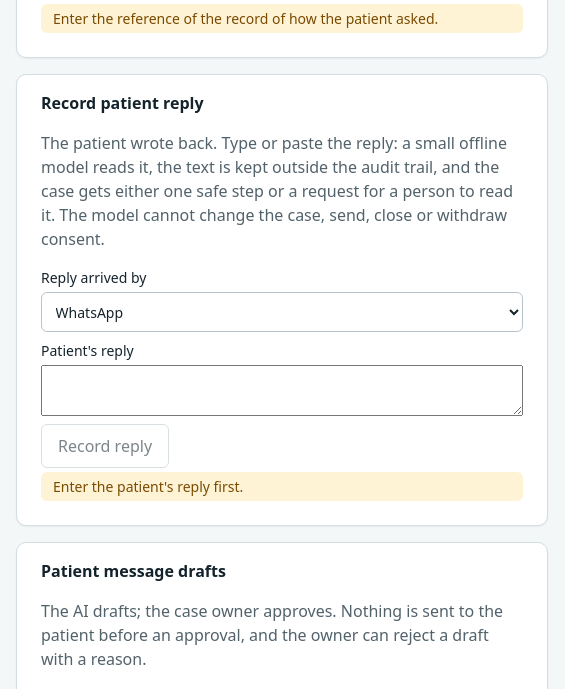
it: Record patient reply › a Gulf-Arabic confirmation is read as confirm but always goes to a person, and the Why panel says the rule
The image size is (565, 689).
(page scrolled)
Type "ان شاء الله بجي يوم الأحد" into the text box with test id "reply-text" at (282, 391), box 41,365 -> 523,416
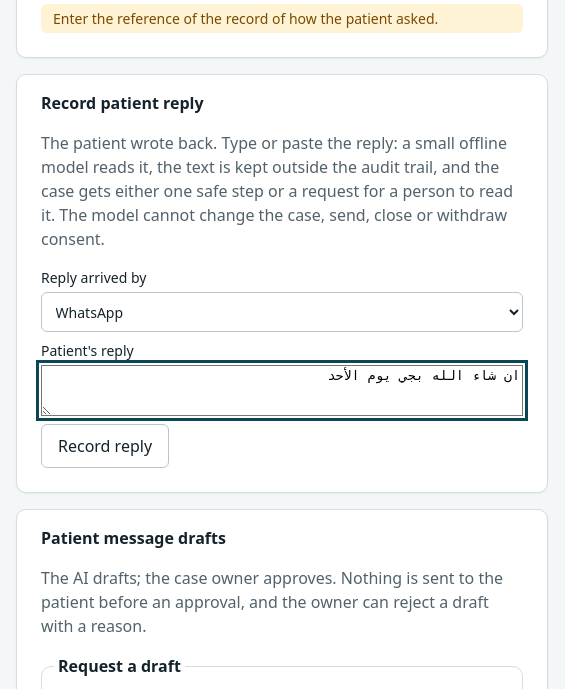
Click the button with test id "record-reply" at (105, 446), box 41,424 -> 169,468
(page scrolled)
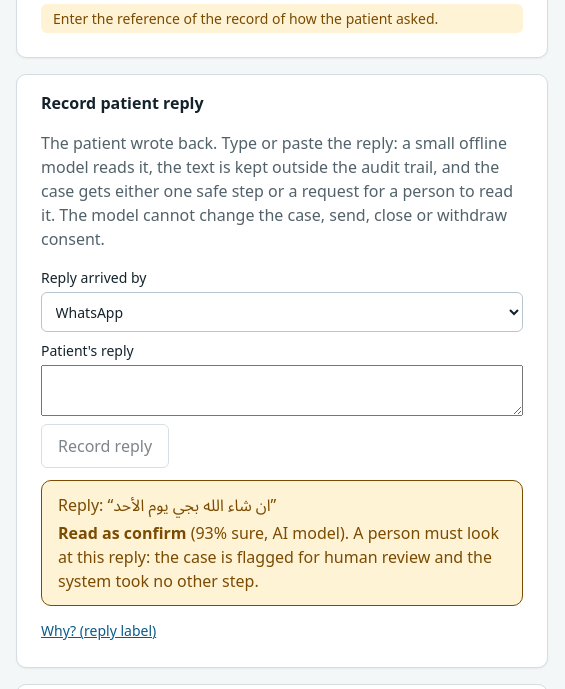
Now the message with test id "reply-result" shows "Read as confirm", box 41,480 -> 523,606
Now the message with test id "reply-result" shows "A person must look at this reply", box 58,522 -> 499,592
Now the text "ان شاء الله بجي يوم الأحد" is shown, box 113,494 -> 271,516
